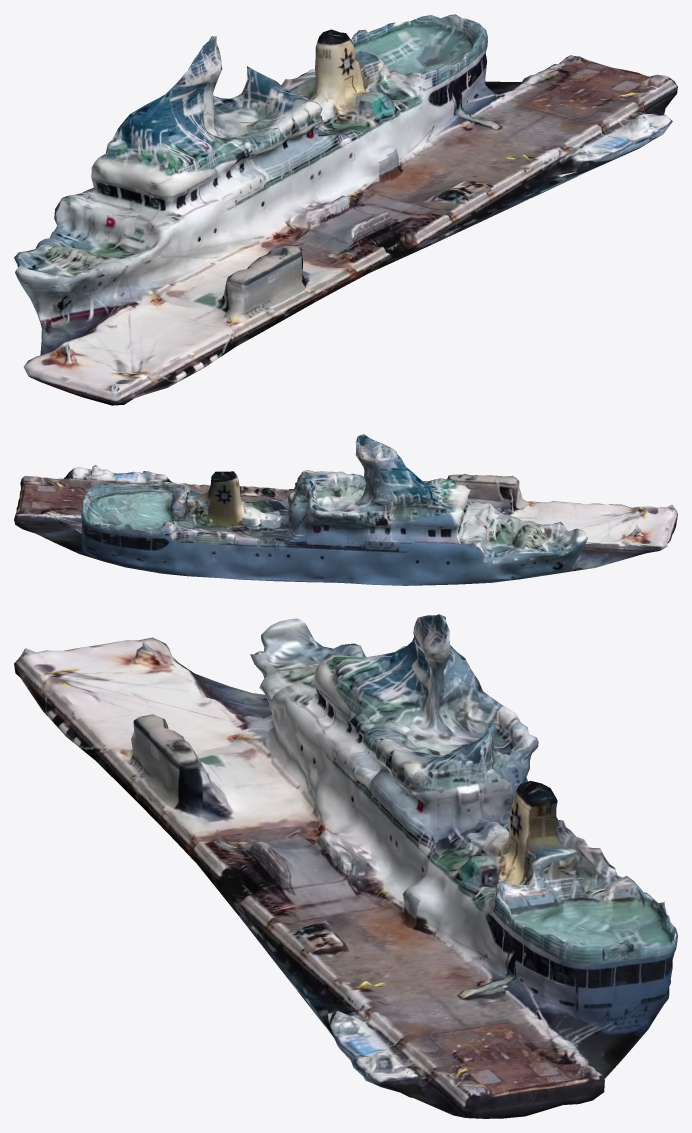
Rendered from oshima-maru.glb.
The picture shows the model from 3 angles, top to bottom: view 1: azimuth 30°, elevation 25°; view 2: azimuth 150°, elevation 25°; view 3: azimuth 270°, elevation 25°; orthographic projection. The views are drawn at different scales.
Parts seen in each view (by area): view 1: baked_mesh; view 2: baked_mesh; view 3: baked_mesh.
Boxes of the visible parts, bbox=[...] form: baked_mesh: bbox=[14, 14, 677, 405]; baked_mesh: bbox=[14, 434, 677, 585]; baked_mesh: bbox=[14, 614, 677, 1118].
Size of the model in its own units: 0.7493 by 0.1763 by 0.4514.
1 material, 1 textured.
